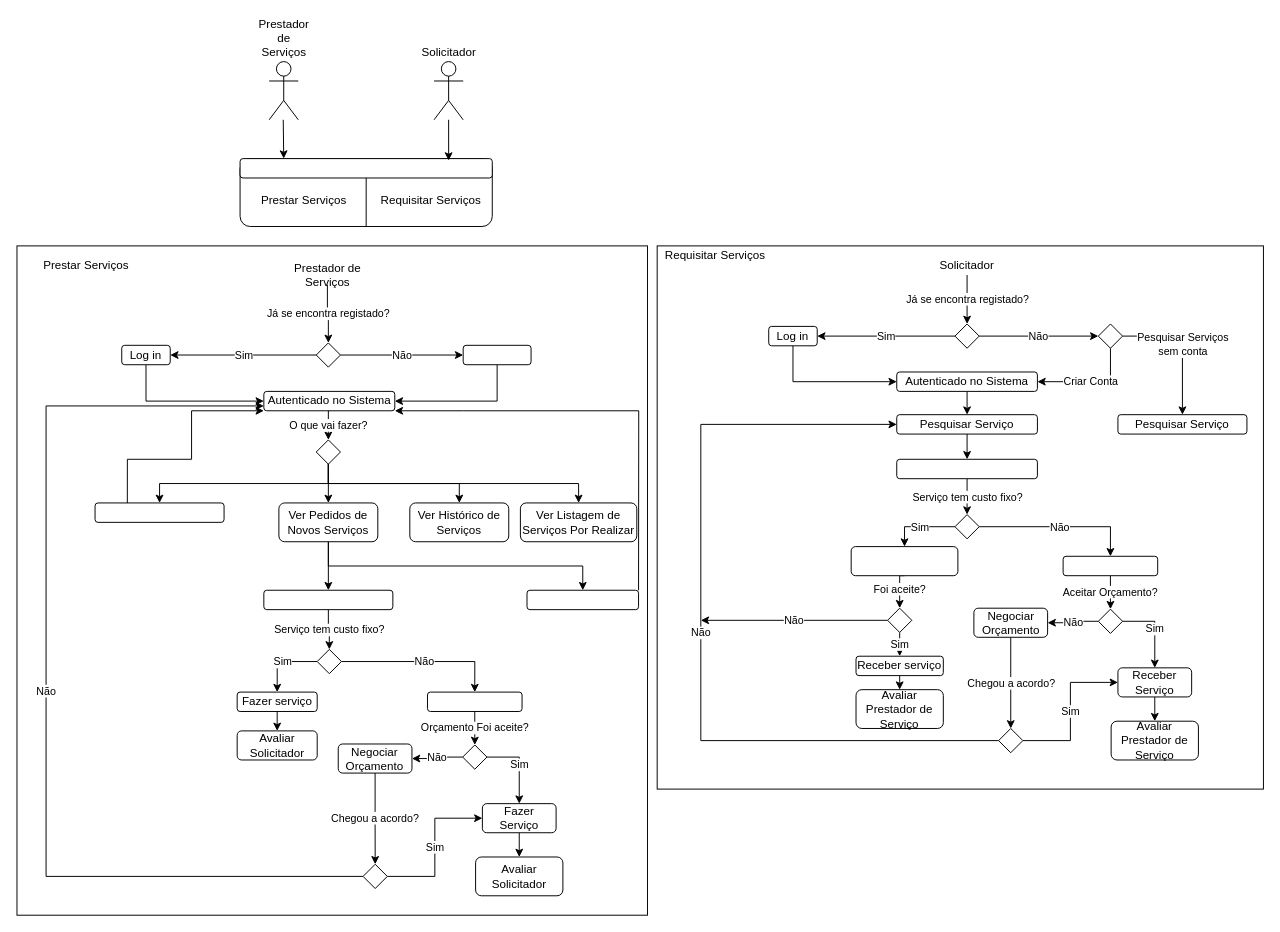
Image size: 1280x932. Some labels were removed from this diagram. The box of each missing label's shape, as (x1, y1, x2, y2) in pixels:
Aceitar Serviço: (263, 589, 393, 610)
Cria conta: (462, 344, 531, 365)
Editar Perfil: (94, 502, 224, 522)
Esperar Por Resposta: (850, 546, 958, 576)
Fazer Orçamento: (427, 691, 522, 711)
Pedir Orçamento: (1062, 555, 1158, 576)
Rejeitar Serviço: (526, 589, 639, 610)
Requisitar Serviço: (896, 458, 1037, 479)
Servicify: (239, 158, 492, 178)
